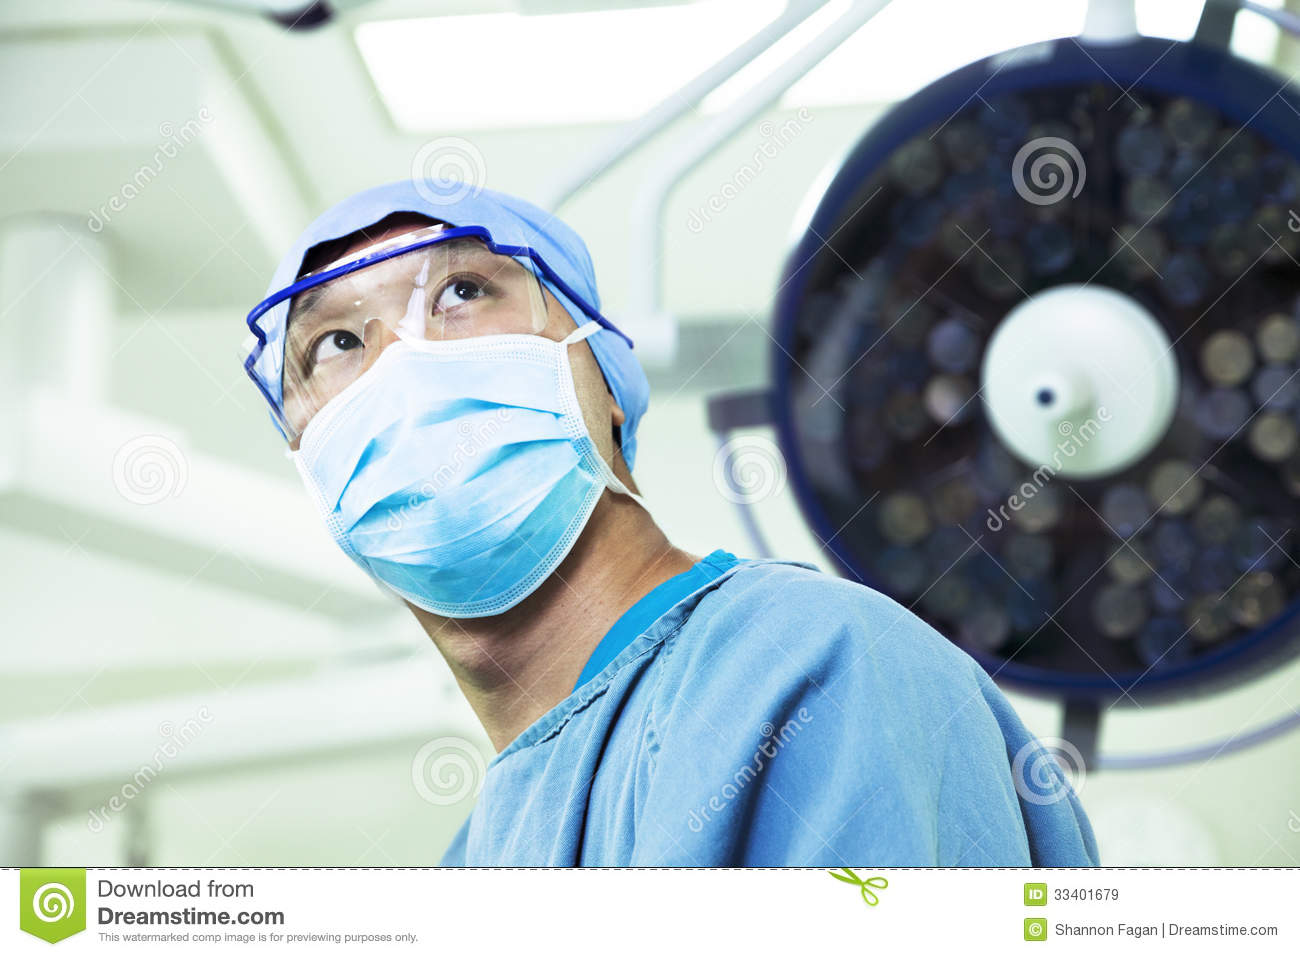mask: (244, 341, 665, 610)
